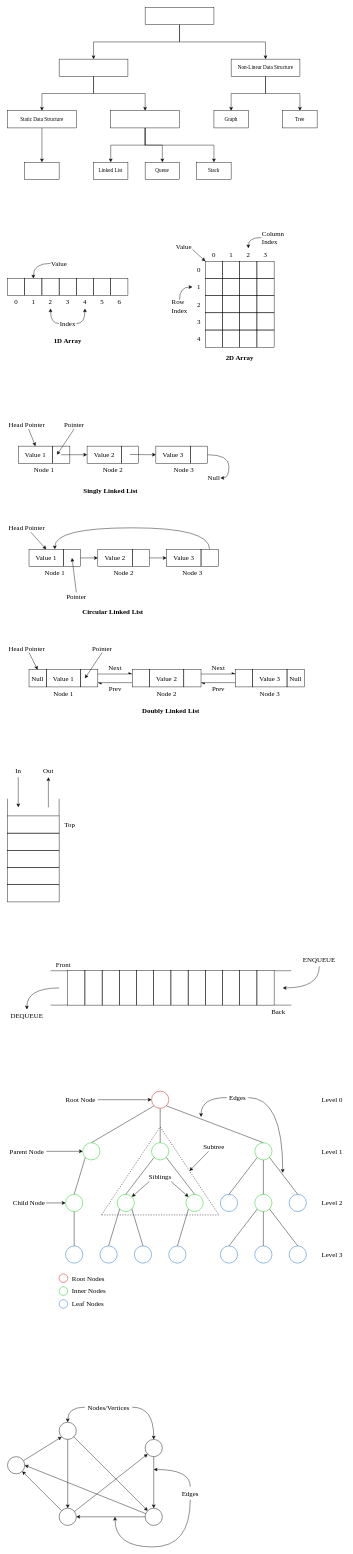
Some shapes in this 353 by 1554 pixel diagram are drawn without their labels. The shapes that lost their labels are listed below. From the top down, each one's centre as x and y in pixels, then its label:
pixel 179 16: Data Structure
pixel 93 67: Linear Data Structure
pixel 145 119: Dynamic Data Structure
pixel 41 171: Array
